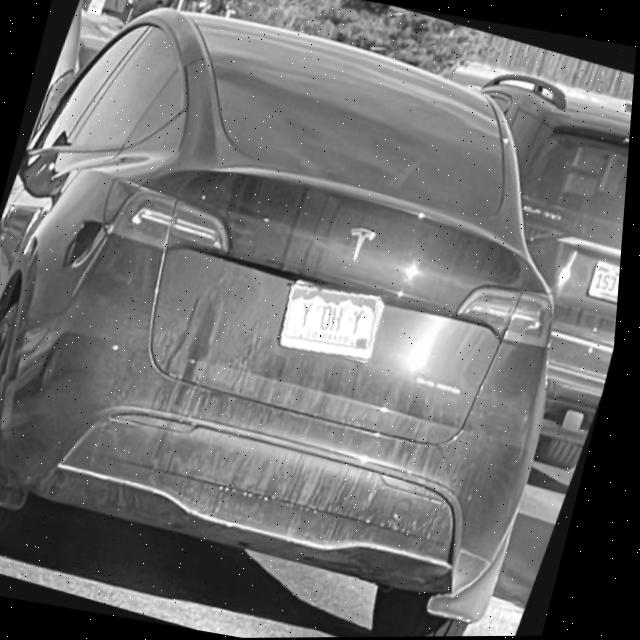LicensePlate: (284, 283, 389, 361)
